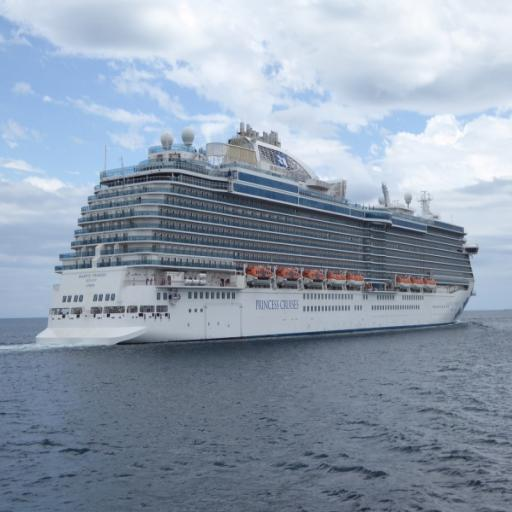cruises: (34, 100, 478, 347)
